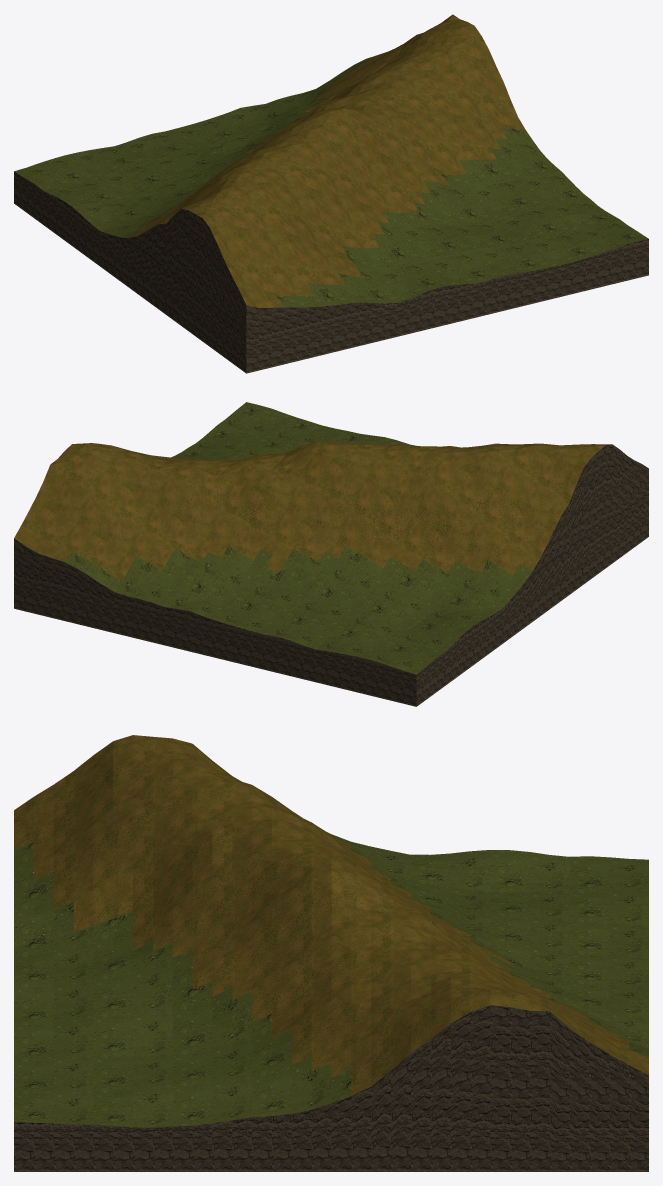
File: ridge_01.glb
3 views of the same model, one above another, from view 1: azimuth 30°, elevation 25°; view 2: azimuth 150°, elevation 25°; view 3: azimuth 270°, elevation 25° (orthographic). The views are drawn at different scales.
Parts seen in each view (by area): view 1: ridge_01; view 2: ridge_01; view 3: ridge_01.
Boxes of the visible parts, left/top/right/bottom form: ridge_01: left=14, top=14, right=648, bottom=373; ridge_01: left=14, top=402, right=648, bottom=706; ridge_01: left=14, top=735, right=648, bottom=1171.
Size of the model in its own units: 16 by 4.87 by 16.
Materials: 3 (3 with a texture image).
